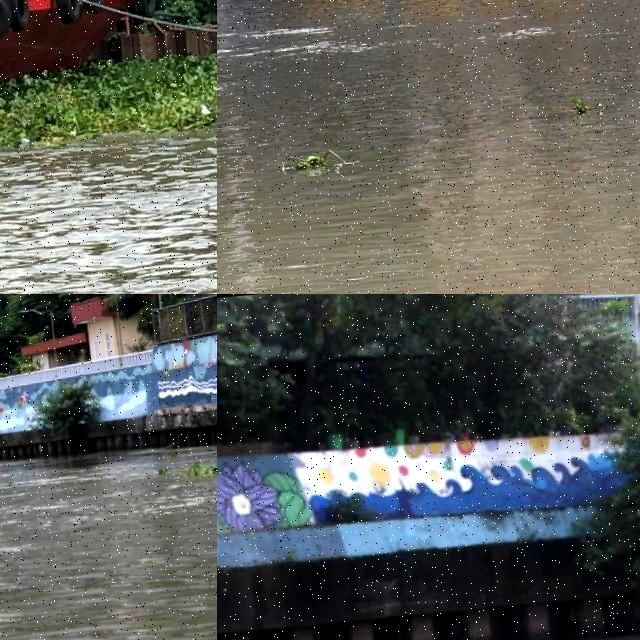water-hyacinth: (1, 12, 218, 165), (277, 149, 363, 172), (176, 441, 218, 485), (571, 96, 611, 116)
